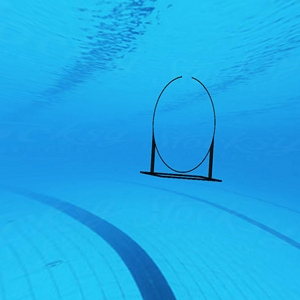circle: (138, 76, 224, 186)
